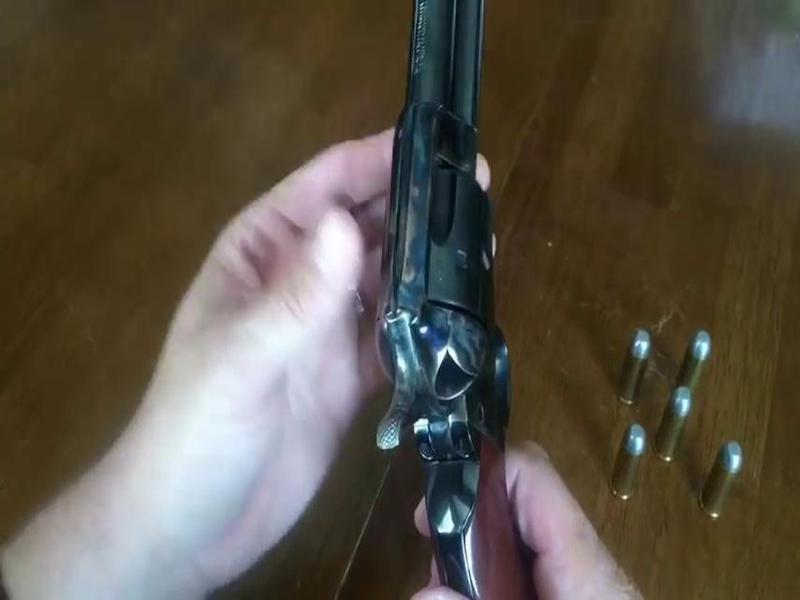Revolver: (363, 16, 544, 571)
